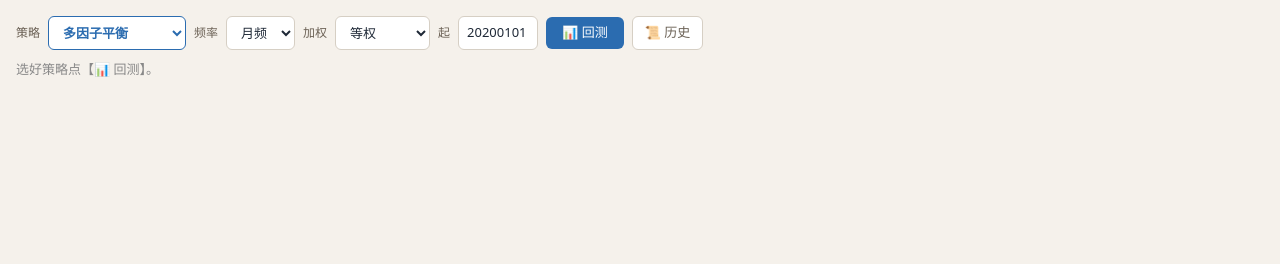
Scenario: BacktestPanel › renders IC panel when result has ic (ML backtest)
Click the button with test id "backtest-run-btn" at (585, 33), box [546, 17, 624, 49]
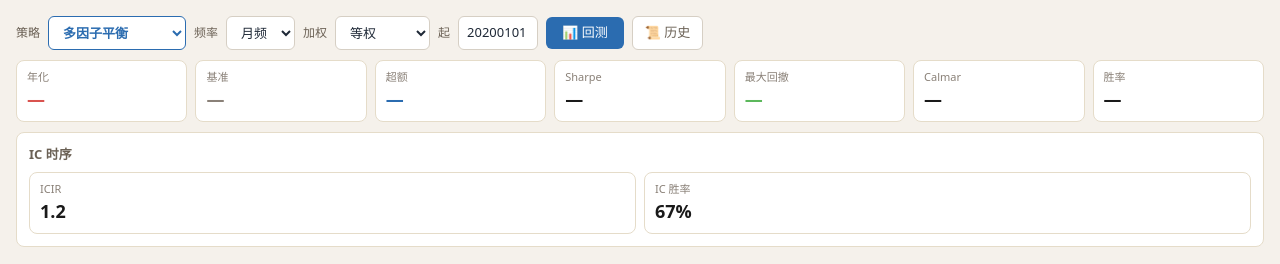
Now the text "IC 时序" is shown, box [29, 144, 72, 162]
Now the text "ICIR" is shown, box [40, 181, 61, 196]
Now the text "IC 胜率" is shown, box [655, 181, 690, 196]
